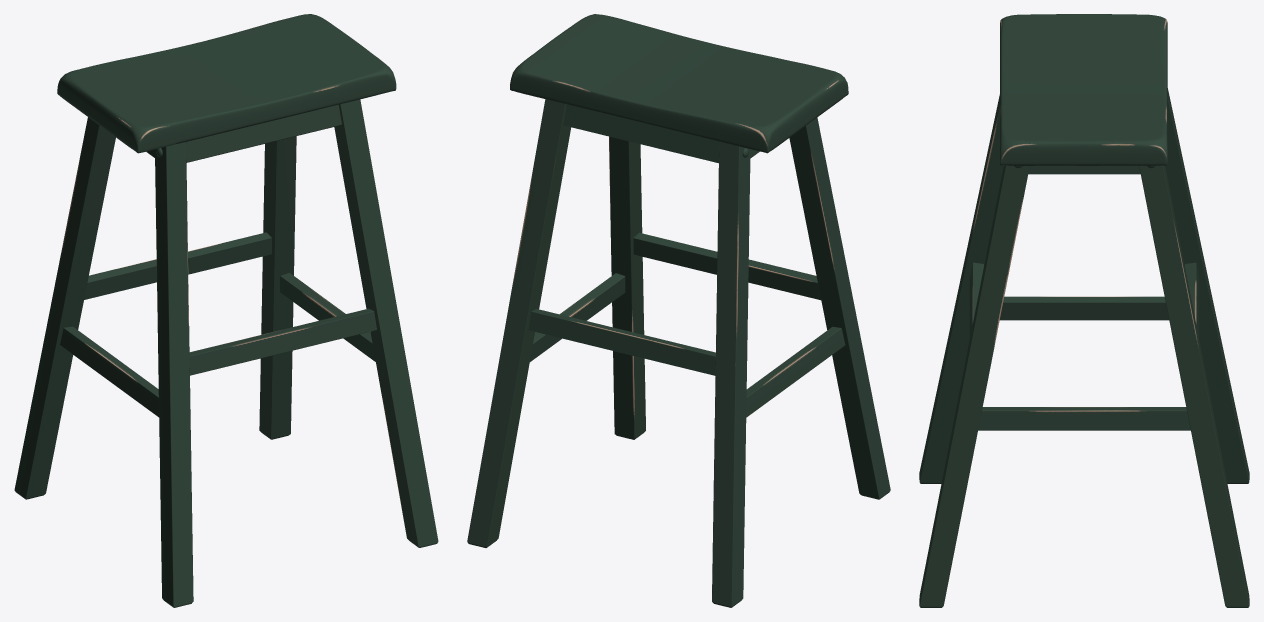
Rendered from stool_B07B78M4DN.glb.
3 views of the same model, side by side, from view 1: azimuth 30°, elevation 25°; view 2: azimuth 150°, elevation 25°; view 3: azimuth 270°, elevation 25° (orthographic). The views are drawn at different scales.
Visible parts, largest first — view 1: RootNode; view 2: RootNode; view 3: RootNode.
Part boxes in pixels (box(x1,y1,x2,y2)): RootNode: box(14, 14, 438, 607); RootNode: box(467, 14, 890, 607); RootNode: box(919, 14, 1249, 607).
Bounding box in the file's own units: 0.4575 × 0.7374 × 0.4759.
1 material, 1 textured.
